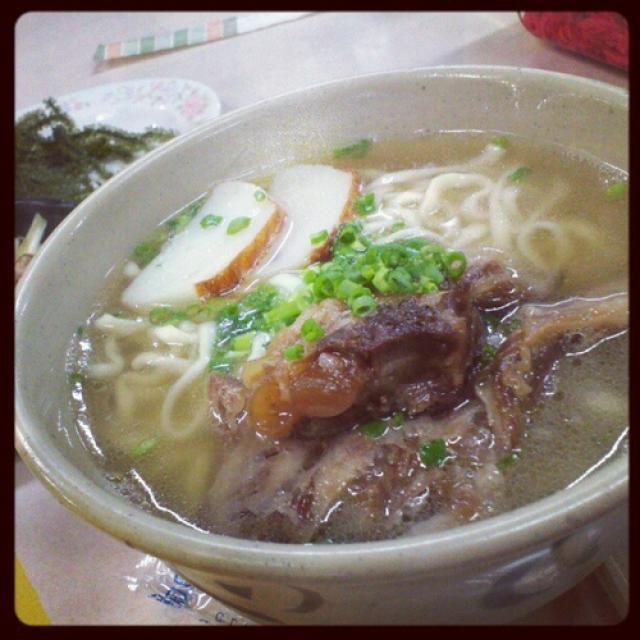烧串烤肉: (7, 12, 586, 618)
